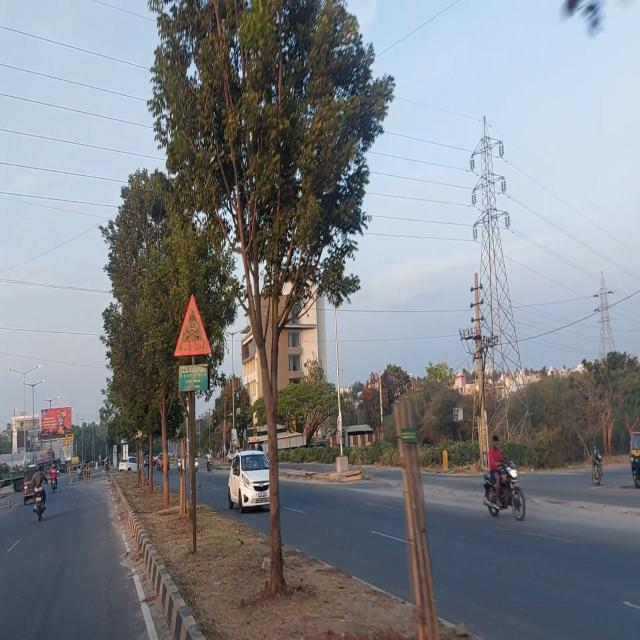bien_cam: (173, 288, 212, 359)
